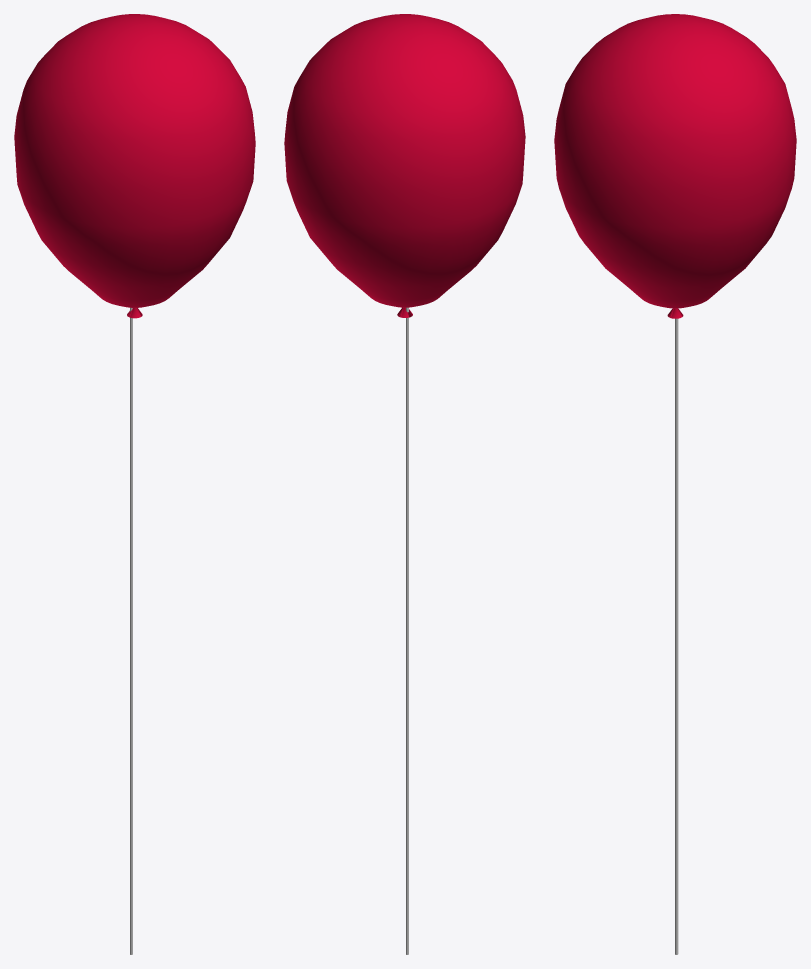
File: Balloon.fbx
3 views of the same model, side by side, from view 1: azimuth 30°, elevation 25°; view 2: azimuth 150°, elevation 25°; view 3: azimuth 270°, elevation 25° (orthographic).
Visible parts, largest first — view 1: Balloon, String; view 2: Balloon, String; view 3: Balloon, String.
Part boxes in pixels (<box>): Balloon: <box>14,14,255,318</box>; String: <box>130,307,132,954</box>; Balloon: <box>284,14,525,317</box>; String: <box>406,307,408,954</box>; Balloon: <box>554,14,796,318</box>; String: <box>675,318,678,954</box>.
Size of the model in its own units: 704 by 2980 by 704.
